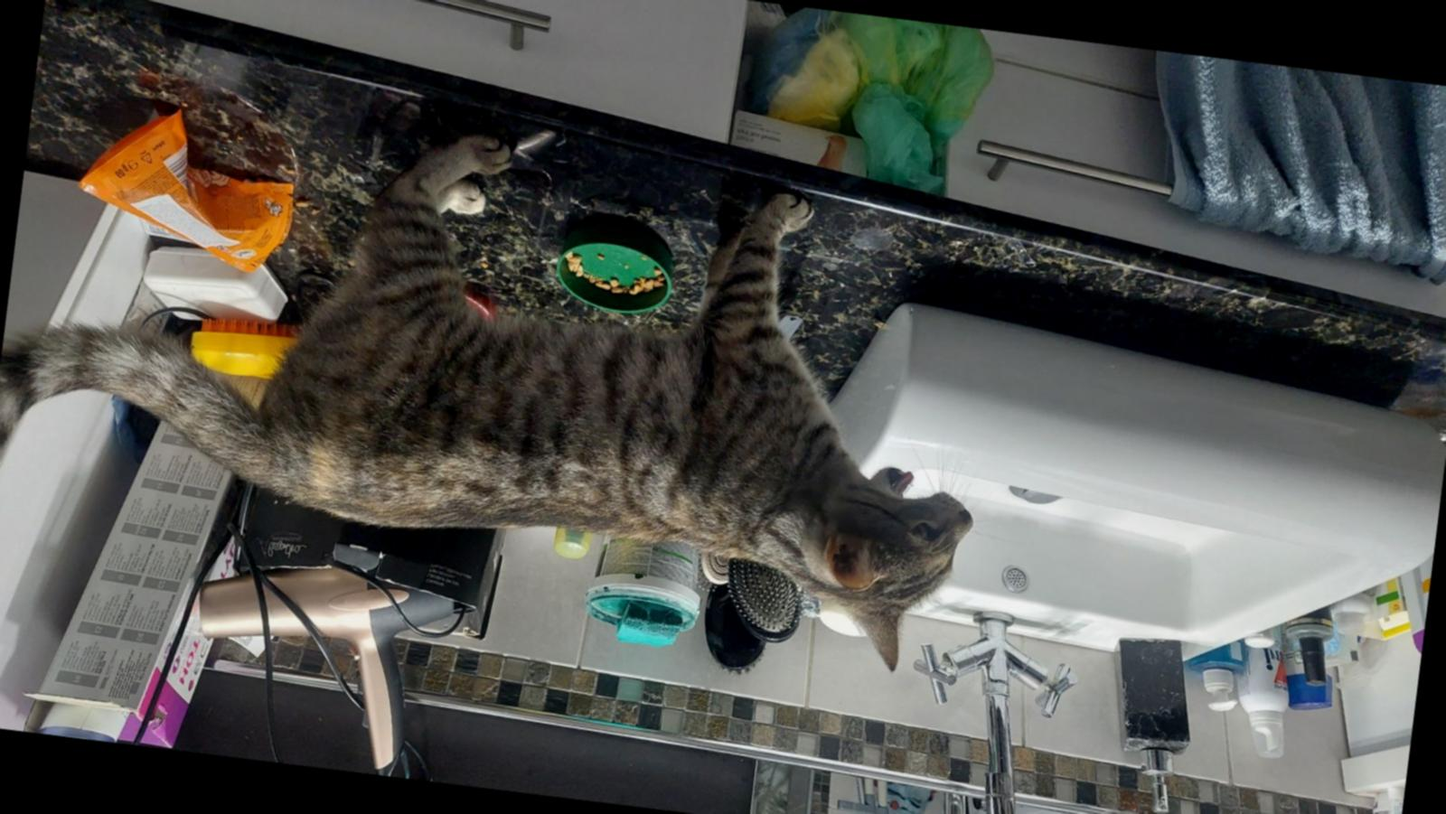macka: (0, 80, 1013, 679)
